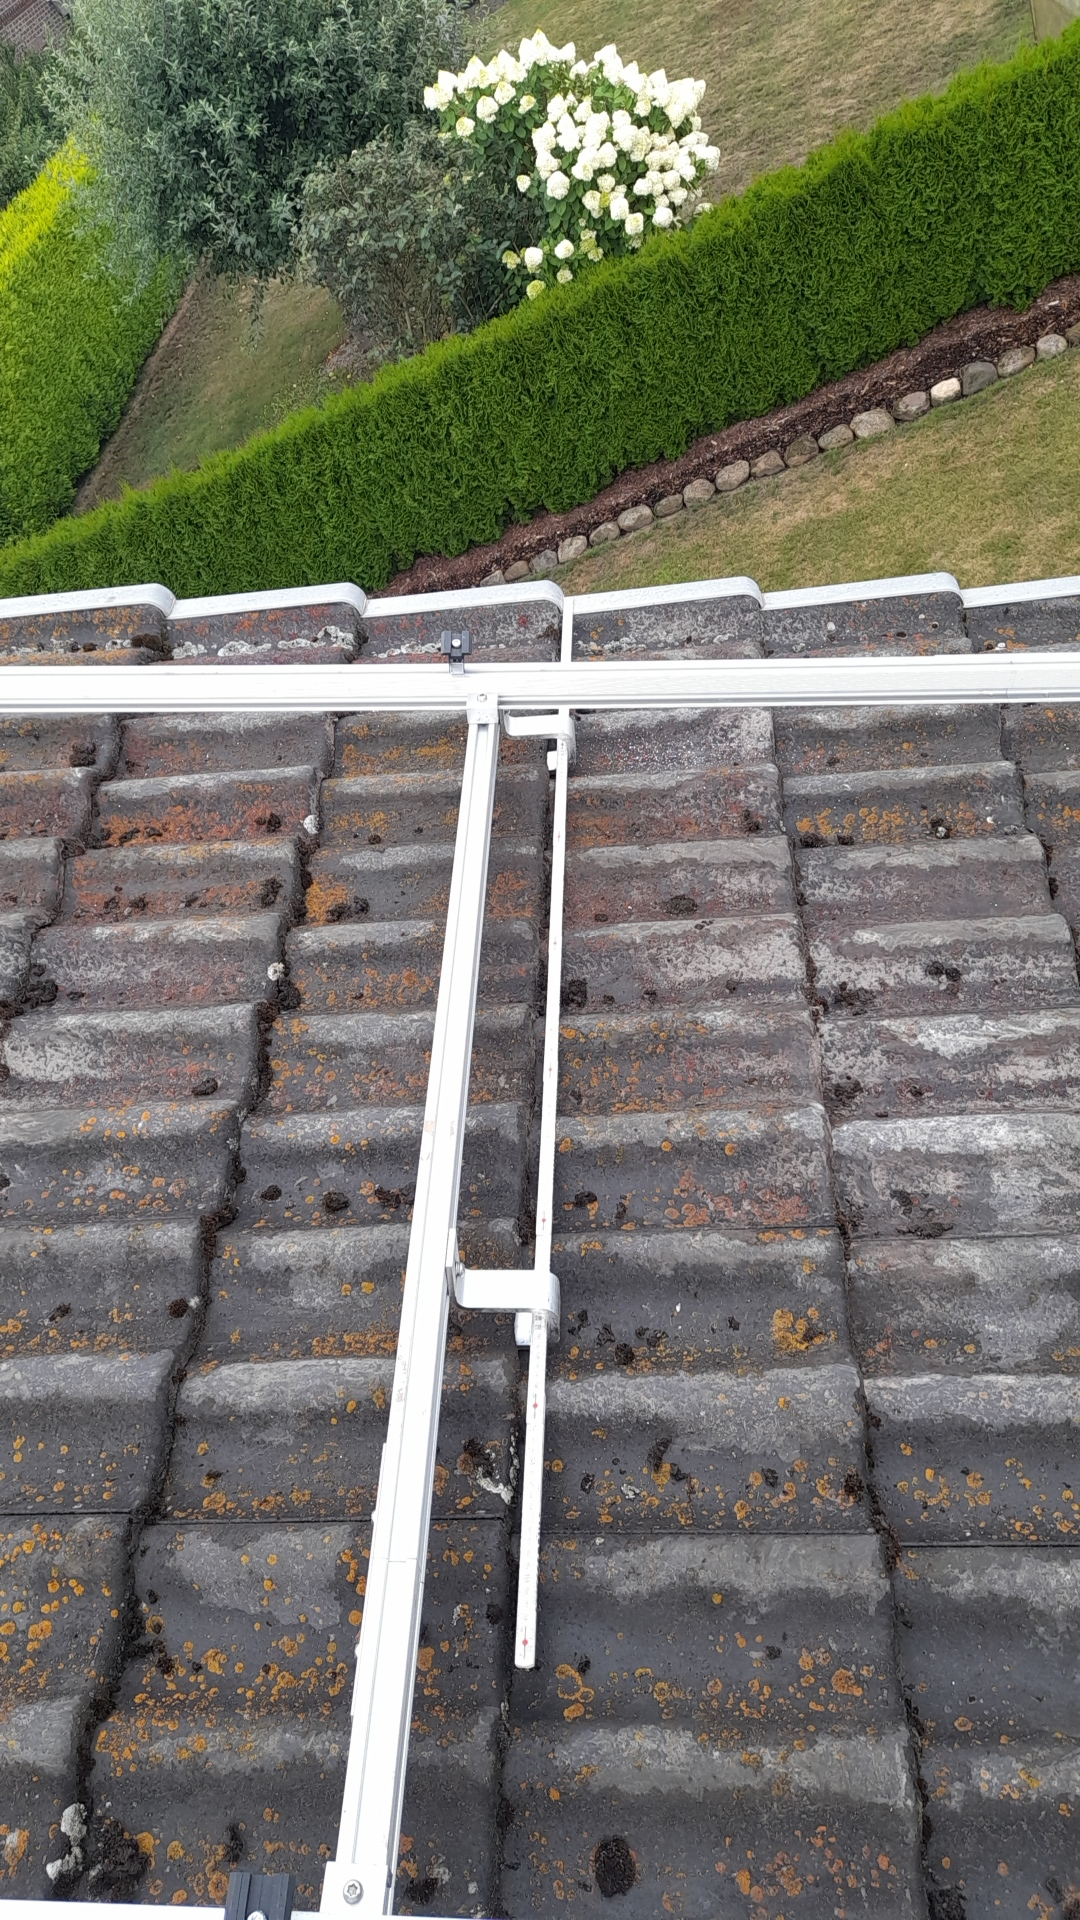hook: (444, 1226, 559, 1346), (498, 700, 578, 771)
